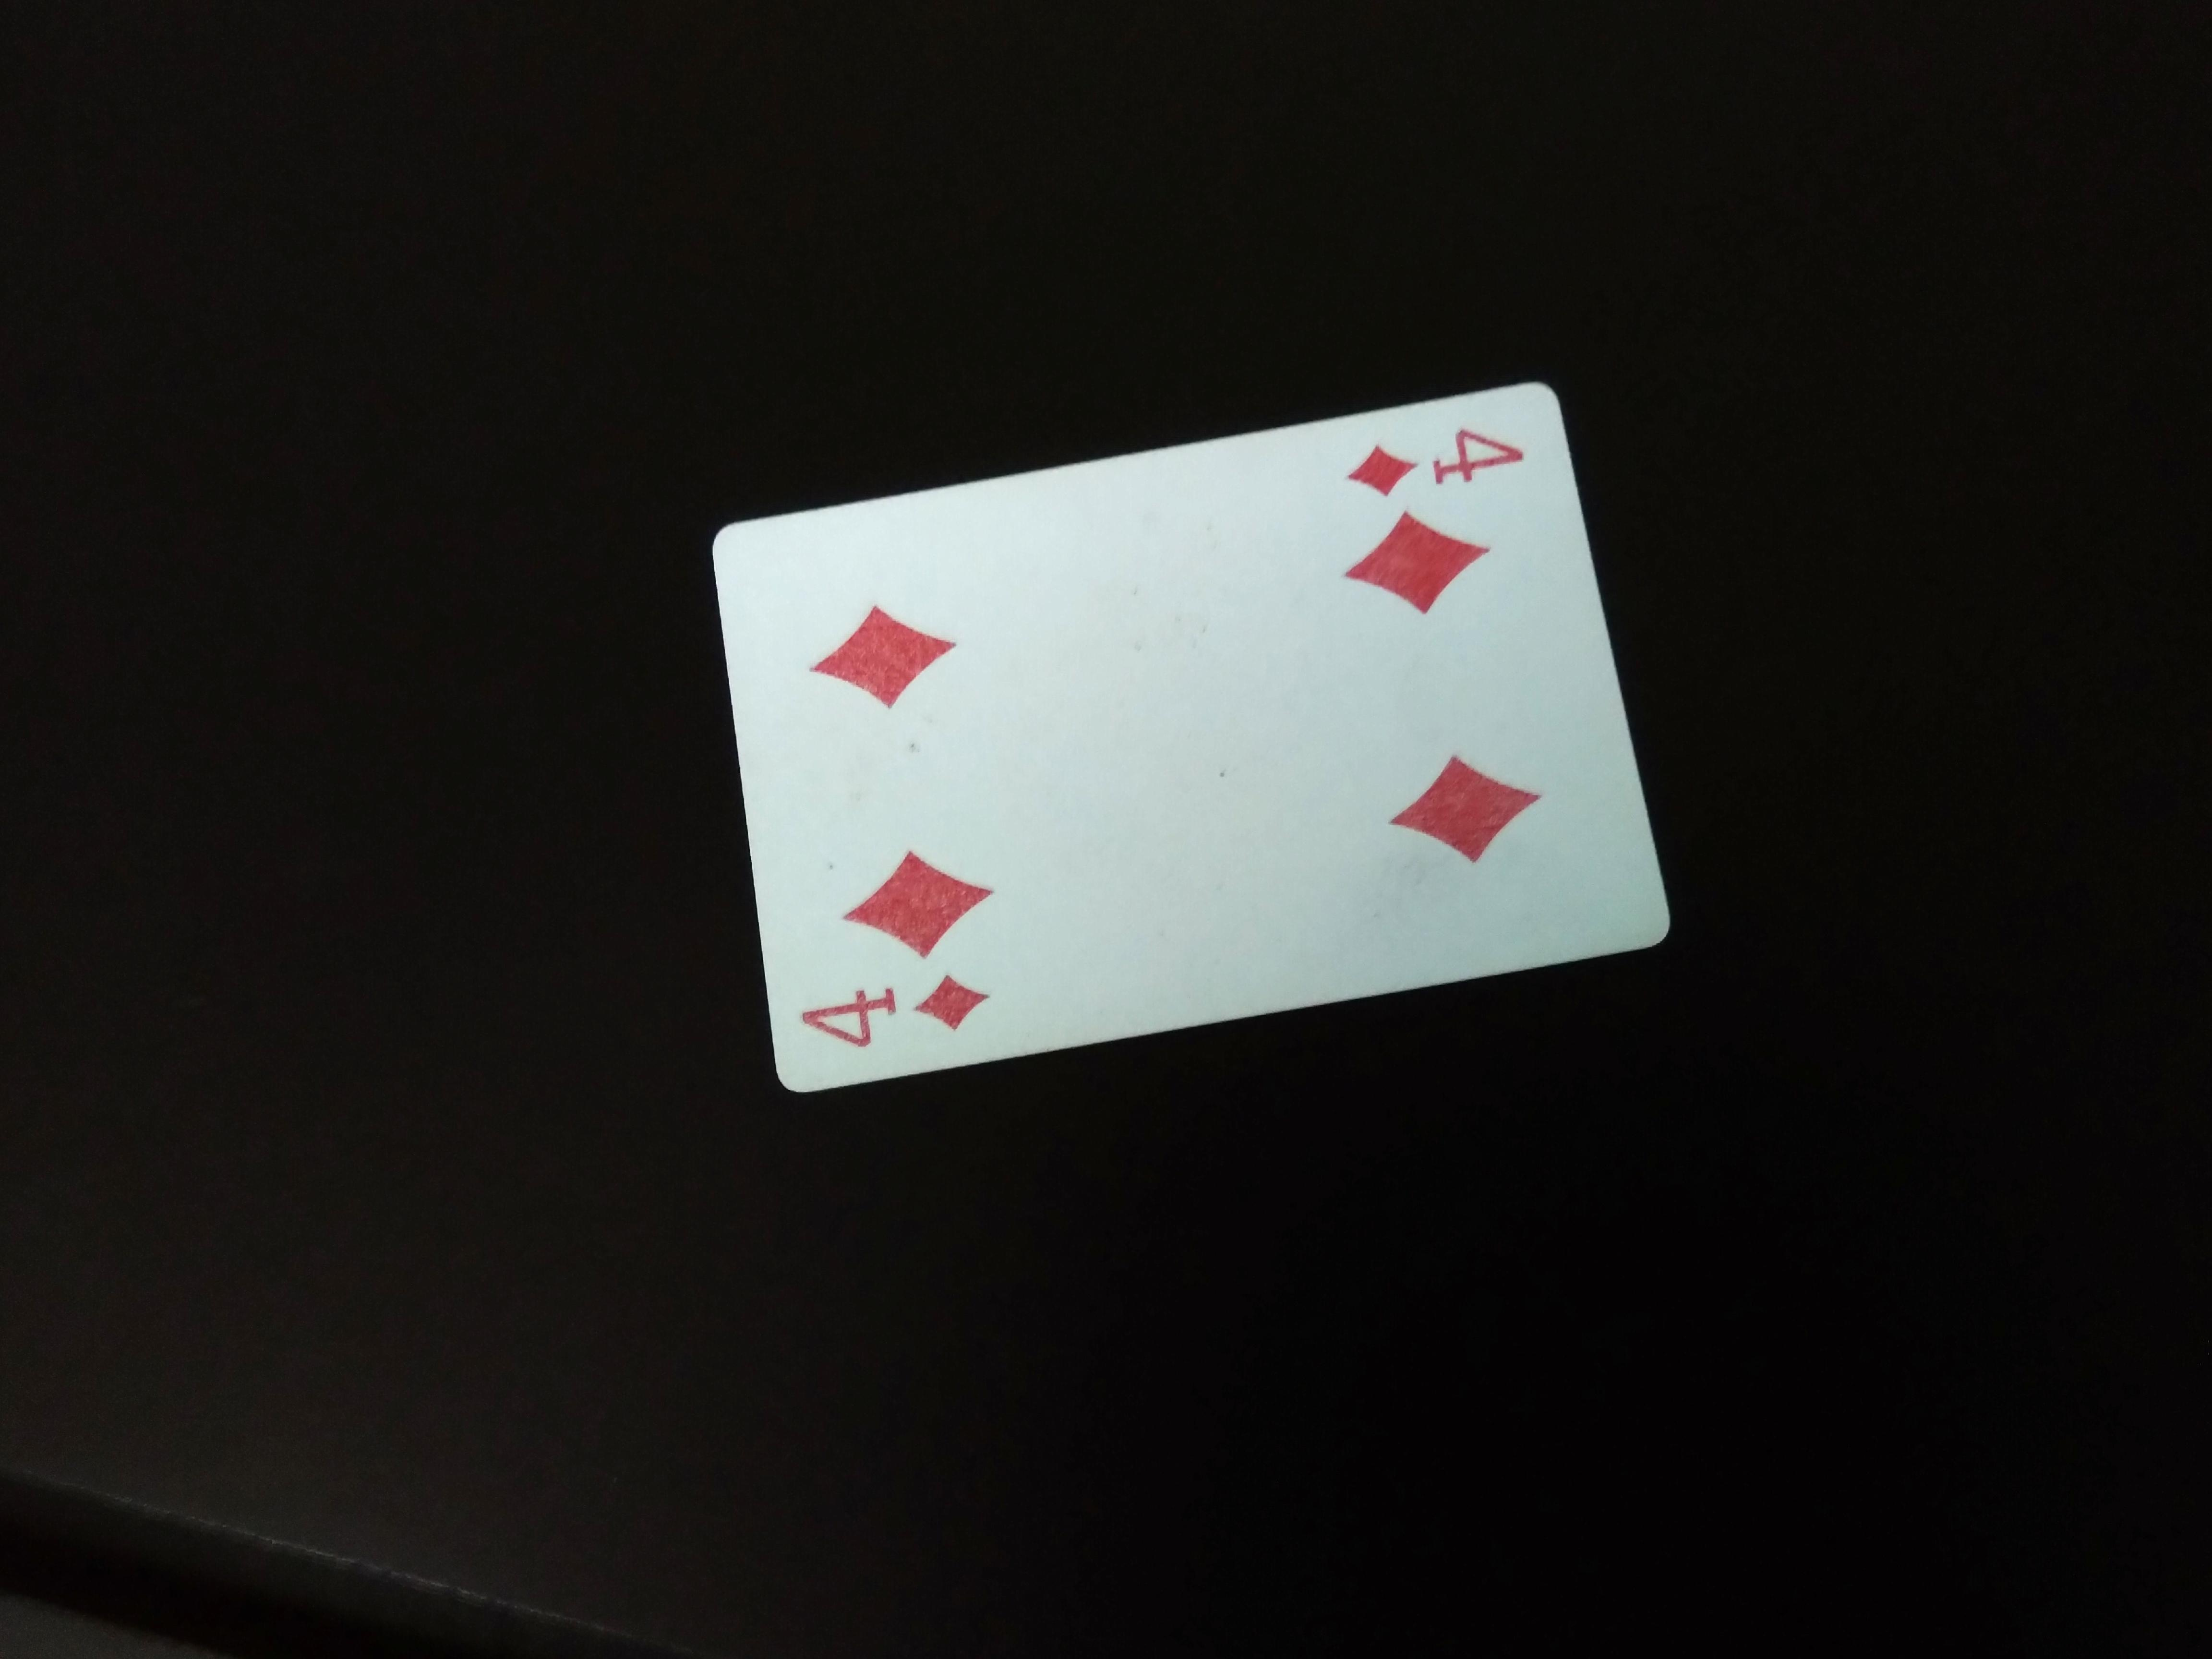4D: (1324, 418, 1554, 512)
